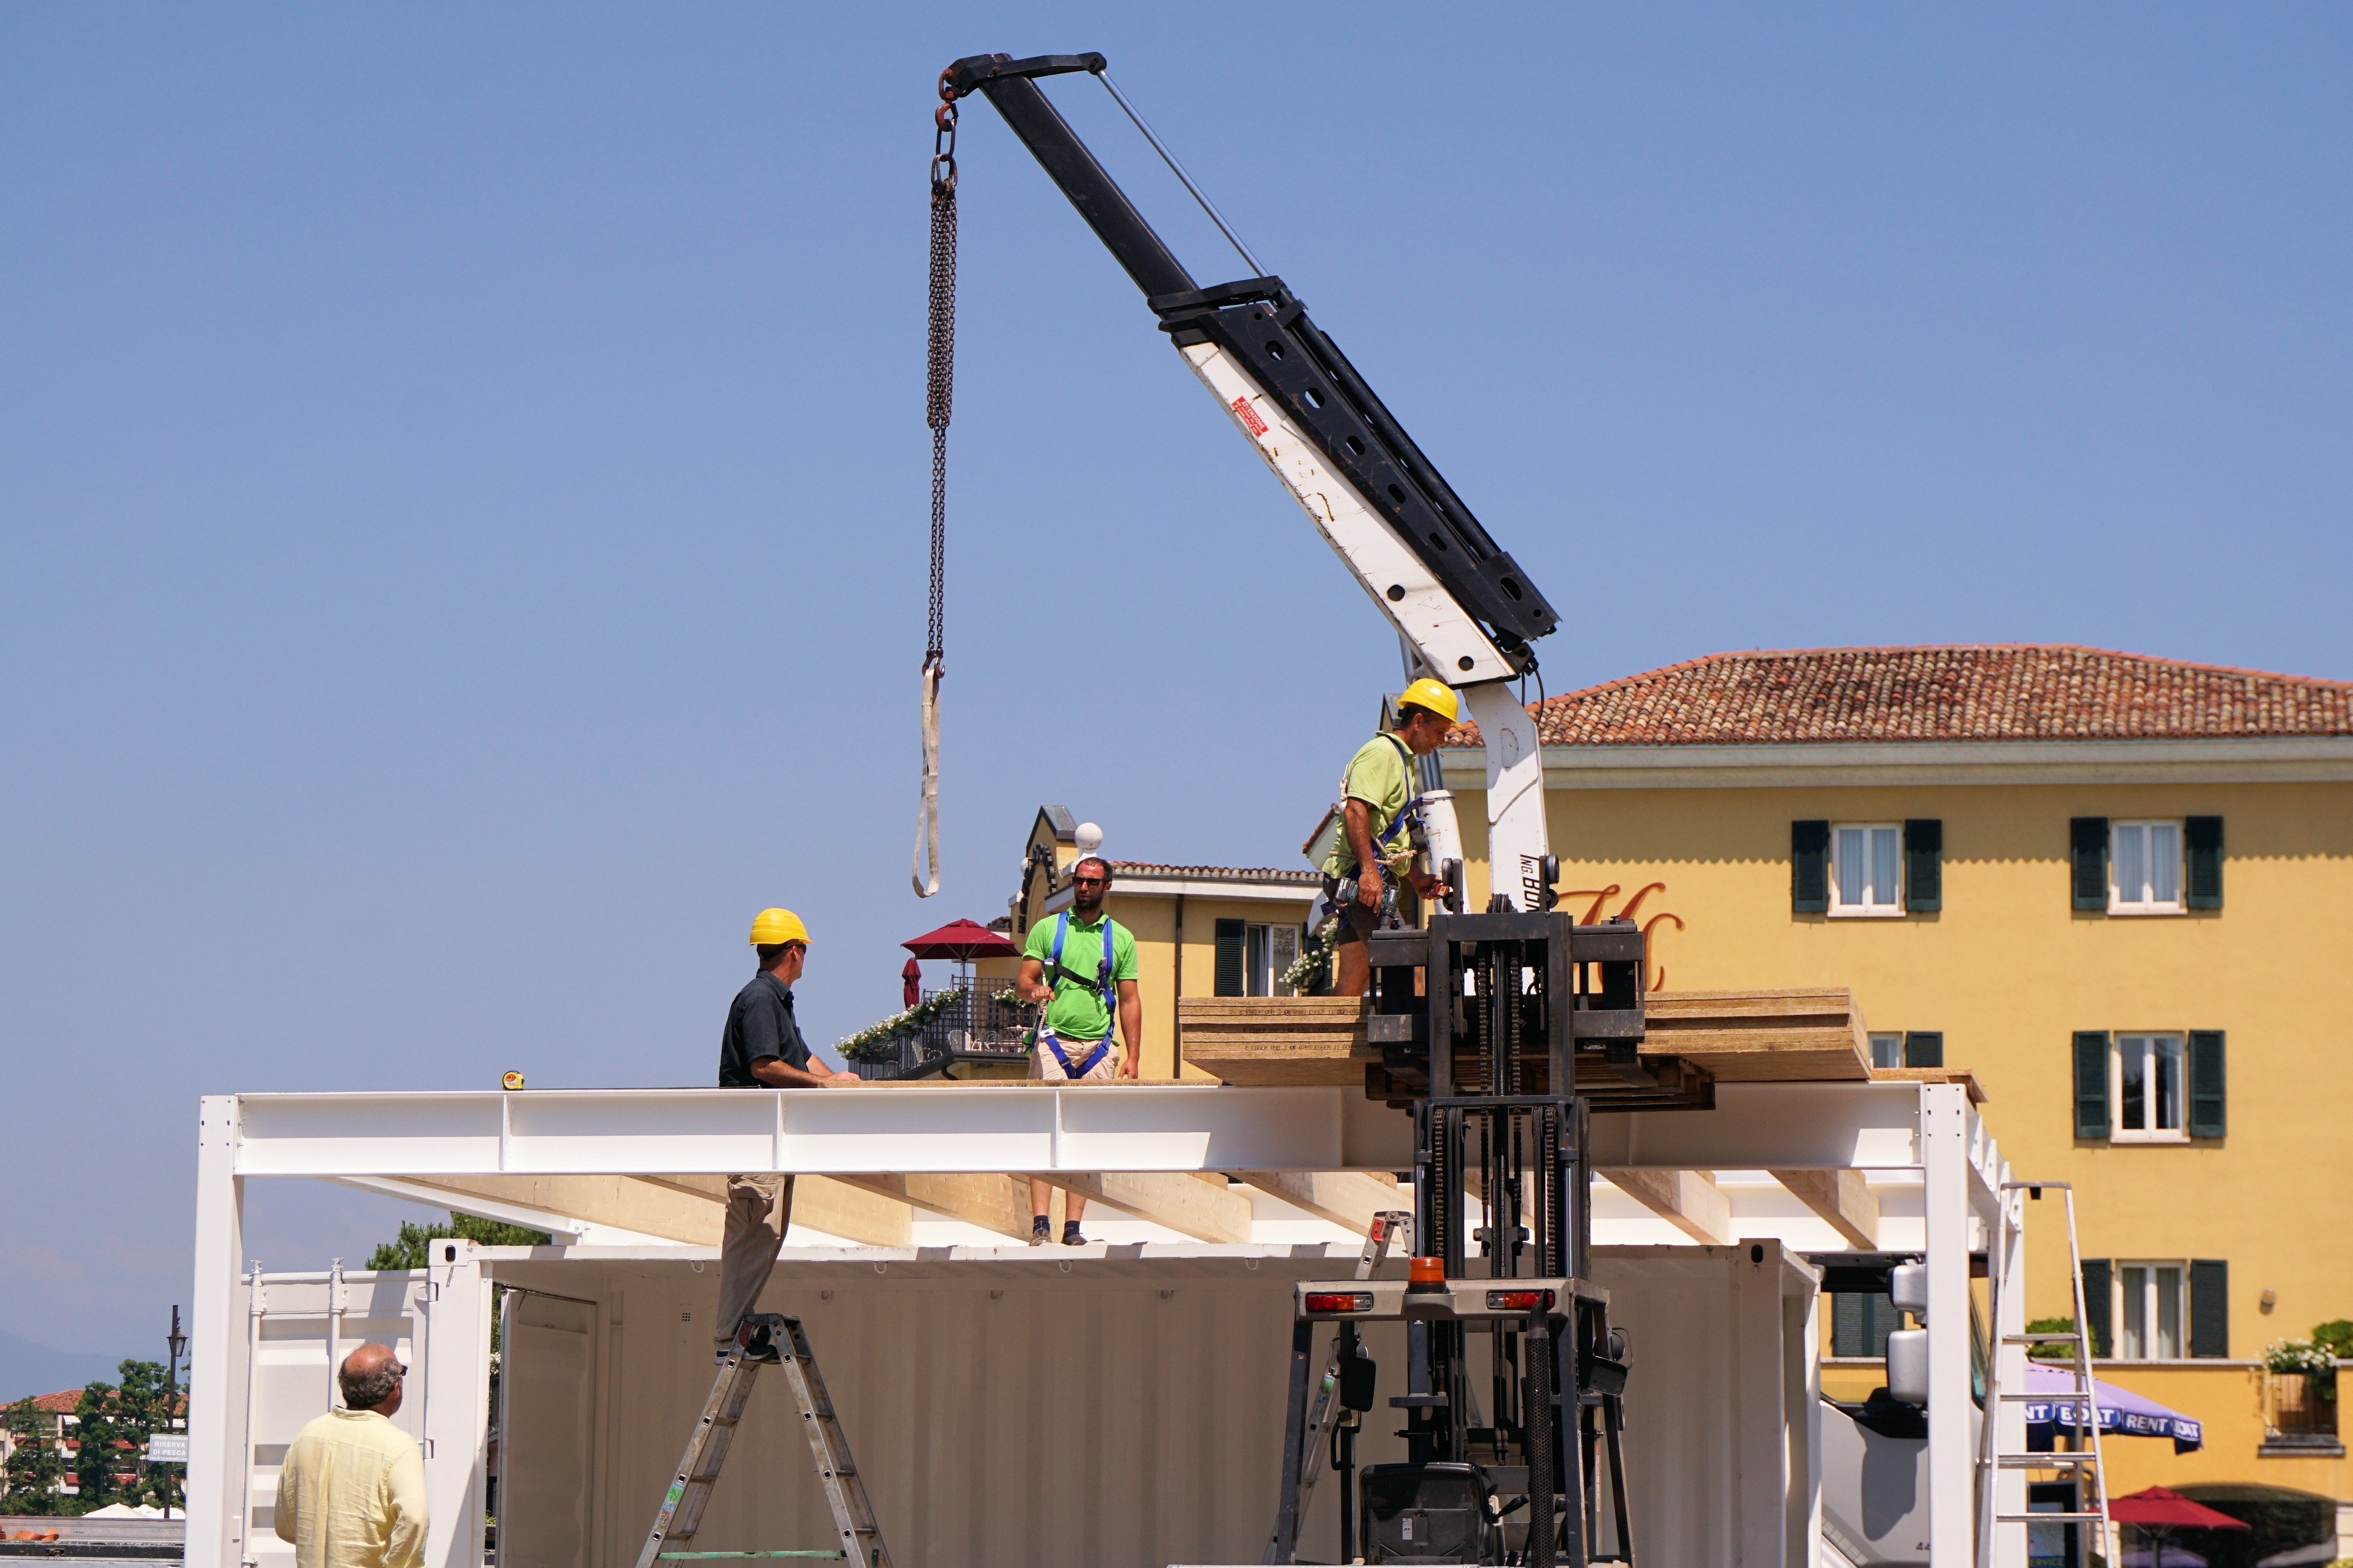none: (336, 1340, 408, 1423), (1072, 852, 1111, 917)
yellow: (1394, 670, 1457, 758), (752, 908, 810, 983)
